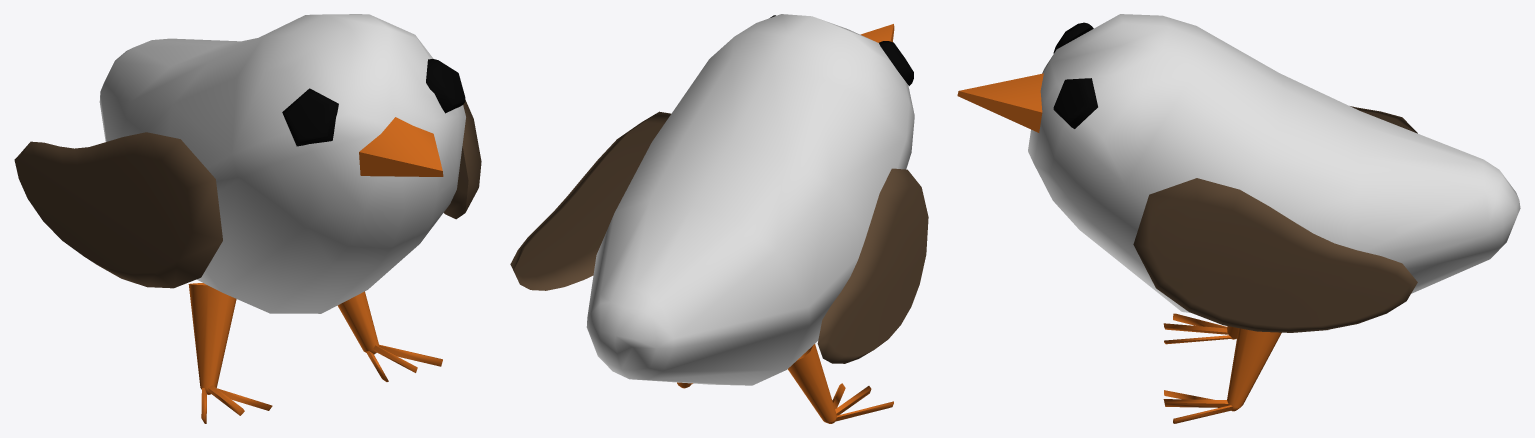
Rendered from bird 2 (vertex).fbx.
3 views of the same model, side by side, from view 1: azimuth 30°, elevation 25°; view 2: azimuth 150°, elevation 25°; view 3: azimuth 270°, elevation 25° (orthographic). The views are drawn at different scales.
Parts seen in each view (by area): view 1: bird2; view 2: bird2; view 3: bird2.
Boxes of the visible parts, bbox=[...] form: bird2: bbox=[14, 14, 481, 423]; bird2: bbox=[510, 14, 928, 423]; bird2: bbox=[957, 14, 1520, 423].
Size of the model in its own units: 27.82 by 28.69 by 41.62.
